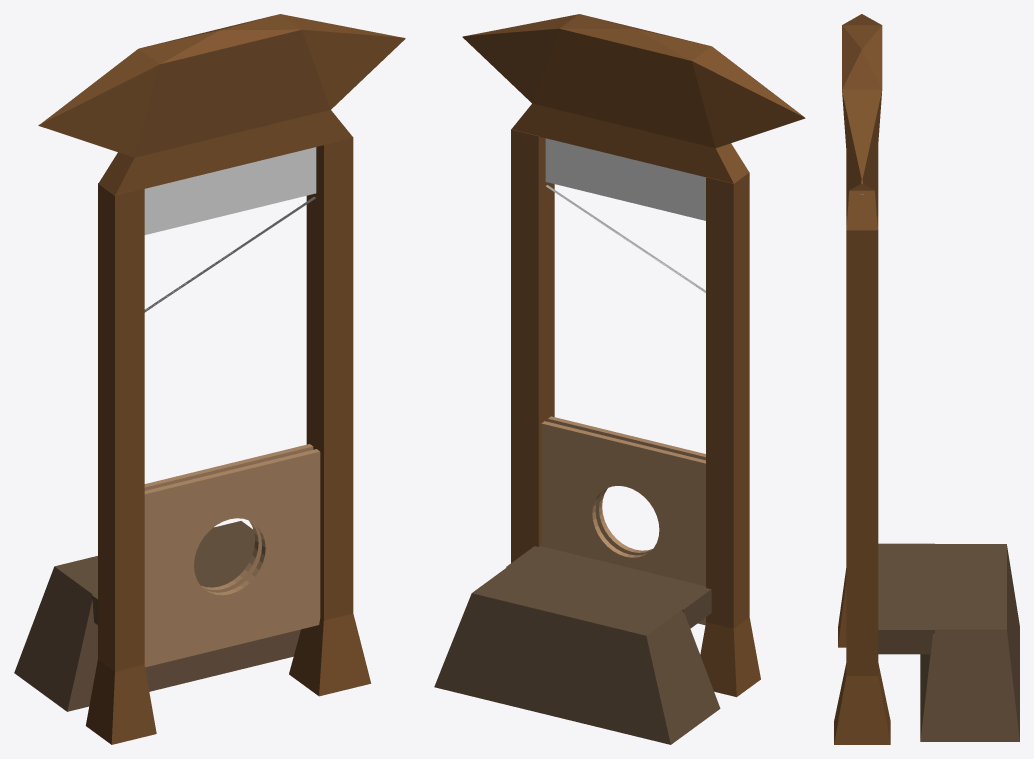
The model's file is Guillotine.fbx.
The picture shows the model from 3 angles, left to right: view 1: azimuth 30°, elevation 25°; view 2: azimuth 150°, elevation 25°; view 3: azimuth 270°, elevation 25°; orthographic projection. The views are drawn at different scales.
Visible parts, largest first — view 1: Cube.003, Cube; view 2: Cube.003, Cube; view 3: Cube.003.
Boxes of the visible parts, bbox=[...] form: Cube.003: bbox=[14, 14, 405, 744]; Cube: bbox=[144, 147, 316, 312]; Cube.003: bbox=[434, 14, 805, 744]; Cube: bbox=[545, 138, 705, 292]; Cube.003: bbox=[834, 14, 1019, 744].
Size of the model in its own units: 2.58 by 4.53 by 1.2.
